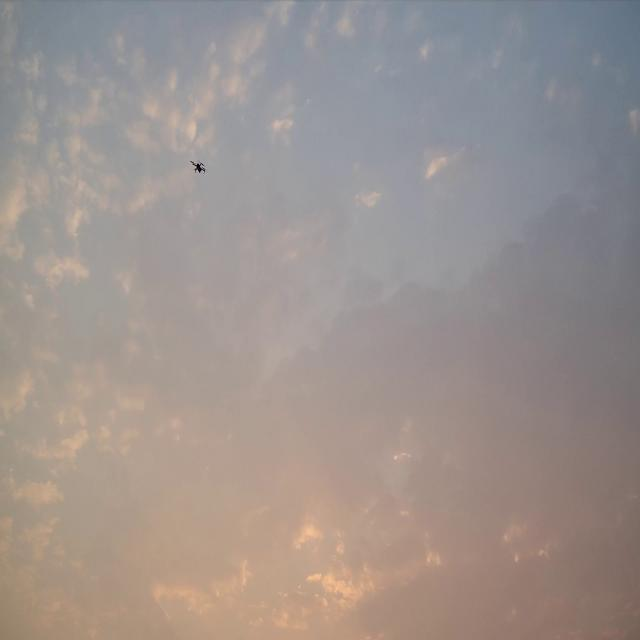UAV: (189, 159, 208, 174)
